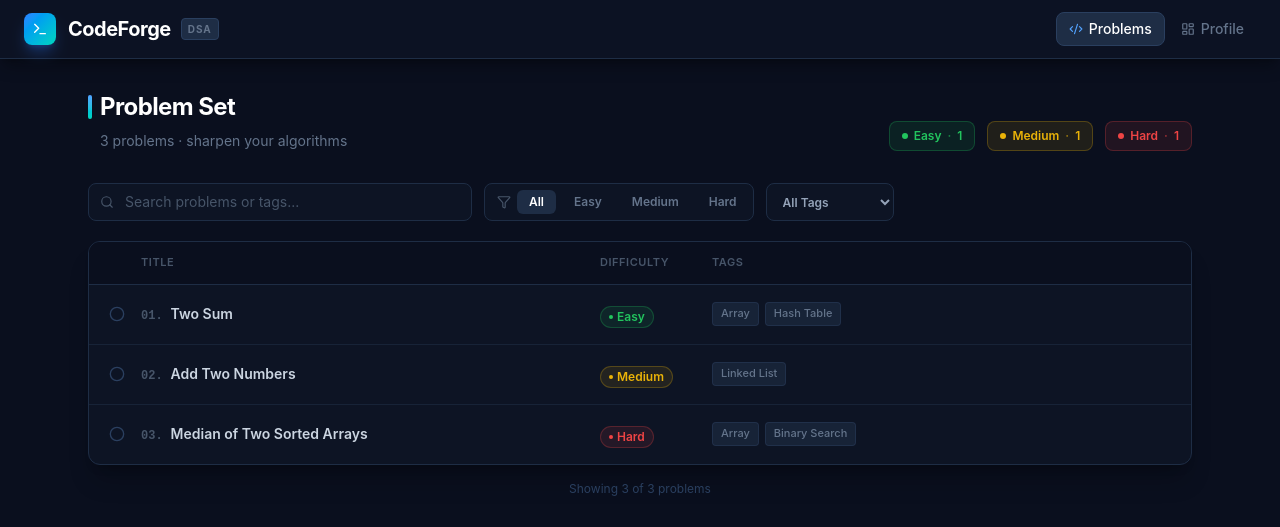
Test: ProblemList unit tests › shows empty state when search matches nothing
Expected: the link "01.Two Sum" is shown, [141, 305, 233, 322]
Step 1. Type "xyznonexistent" into the field with placeholder "Search problems or tags..." → (280, 202), box [88, 183, 472, 221]
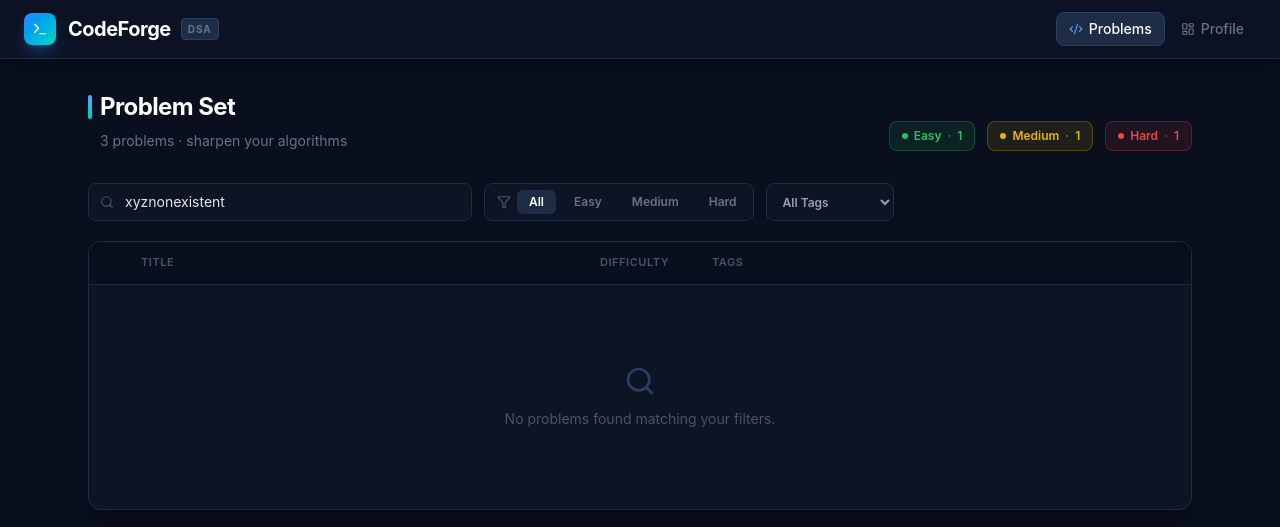
Now the text "No problems found matching your filters." is shown, box [505, 410, 775, 427]
